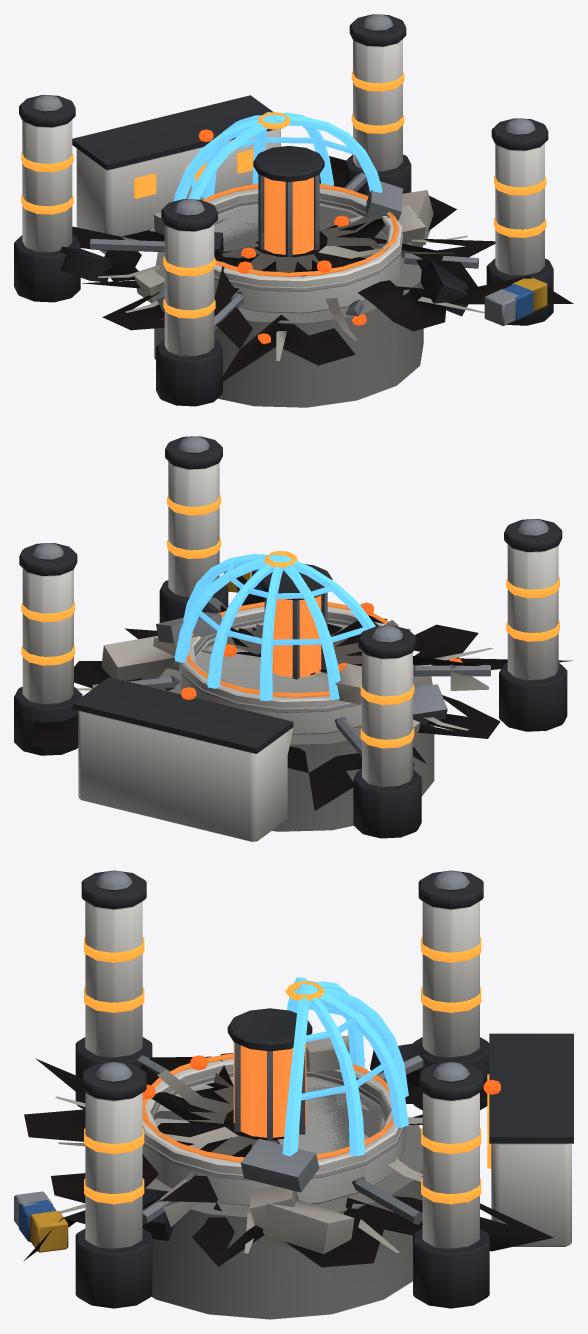
File: shield-depot-luna.glb
The picture shows the model from 3 angles, top to bottom: view 1: azimuth 30°, elevation 25°; view 2: azimuth 150°, elevation 25°; view 3: azimuth 270°, elevation 25°; orthographic projection. The views are drawn at different scales.
Visible parts, largest first — view 1: site_shield_depot_luna_body, site_shield_depot_luna_ruin, site_shield_depot_luna_core; view 2: site_shield_depot_luna_body, site_shield_depot_luna_ruin, site_shield_depot_luna_core; view 3: site_shield_depot_luna_body, site_shield_depot_luna_ruin, site_shield_depot_luna_core.
Boxes of the visible parts, bbox=[...] form: site_shield_depot_luna_body: bbox=[14, 14, 553, 407]; site_shield_depot_luna_ruin: bbox=[59, 129, 573, 385]; site_shield_depot_luna_core: bbox=[253, 146, 324, 256]; site_shield_depot_luna_body: bbox=[14, 436, 567, 841]; site_shield_depot_luna_ruin: bbox=[31, 572, 572, 810]; site_shield_depot_luna_core: bbox=[259, 564, 332, 679]; site_shield_depot_luna_body: bbox=[14, 870, 573, 1319]; site_shield_depot_luna_ruin: bbox=[24, 1035, 553, 1267]; site_shield_depot_luna_core: bbox=[227, 1008, 312, 1139].
Bounding box in the file's own units: 5.29 × 3.1 × 5.56.
